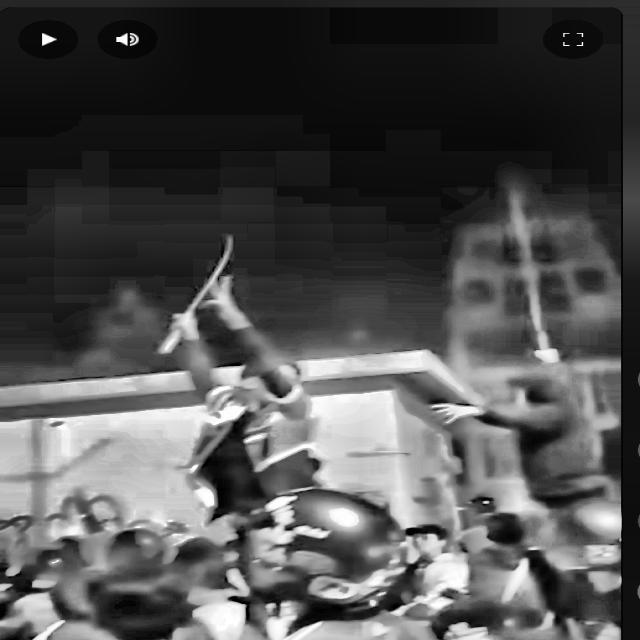celurit: (152, 221, 246, 359)
robbery: (144, 211, 625, 640)
